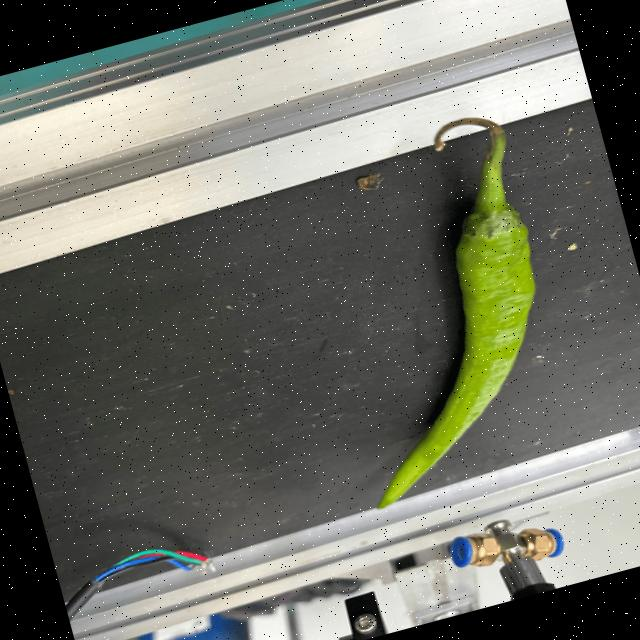chili: (371, 201, 537, 512)
